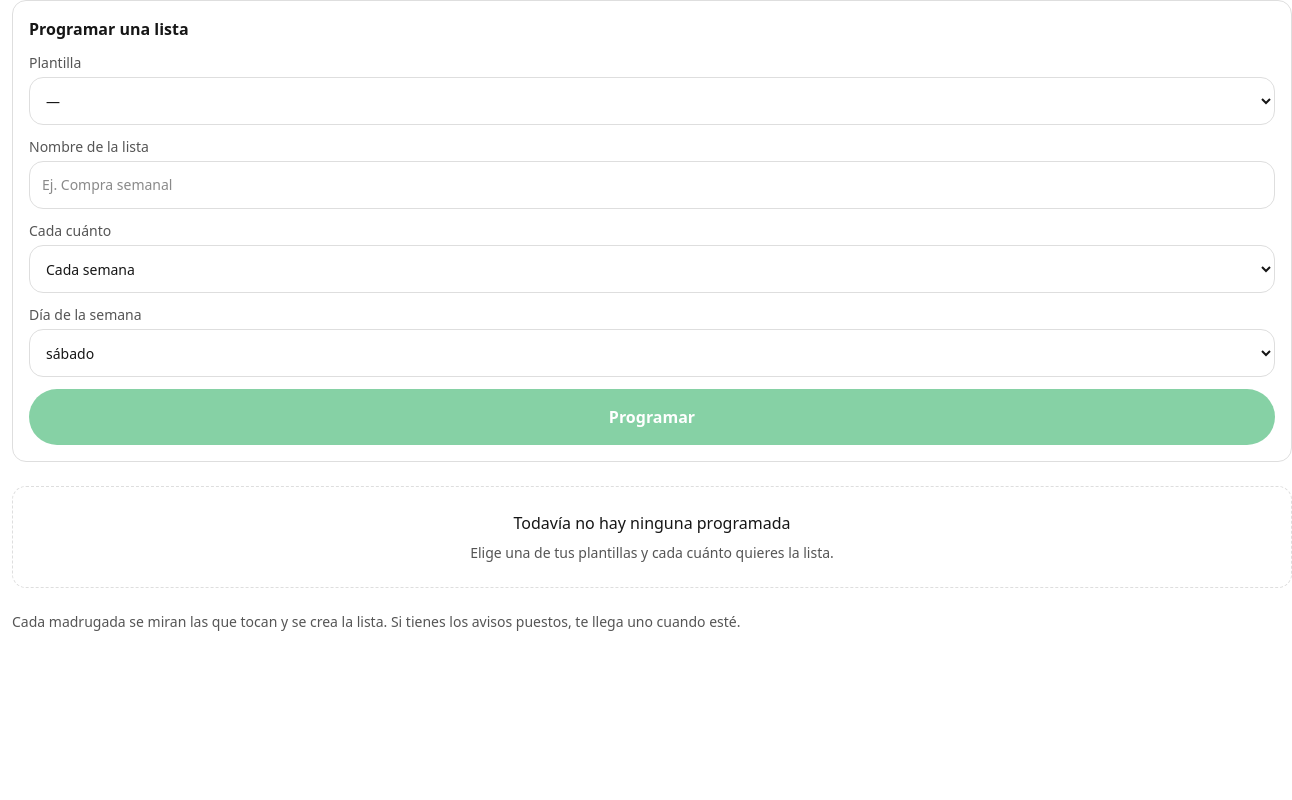
Test case: RecurringClient › en mensual se pide el día del mes, no el de la semana
Select "Cada mes" in the dropdown labelled "Cada cuánto" at (652, 269), box [29,245,1275,293]
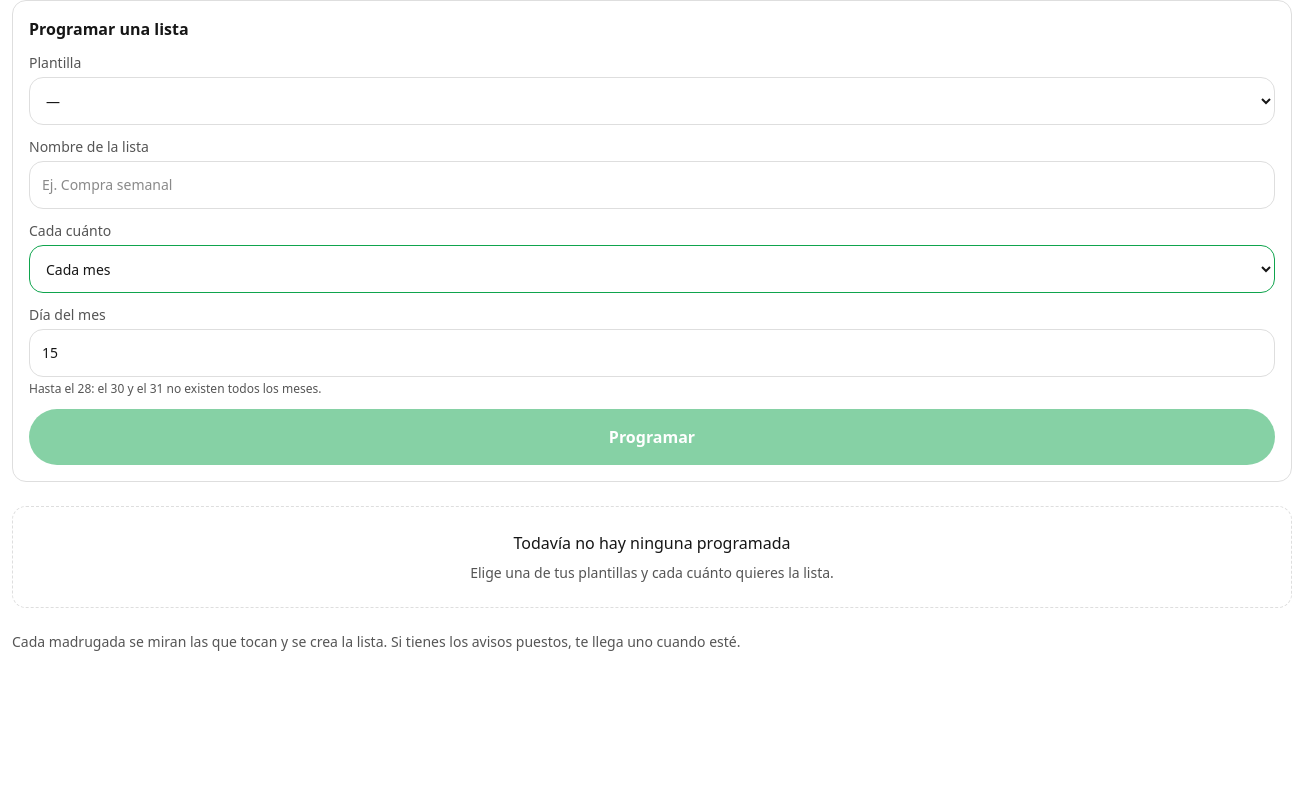
Expected: the number field labelled "Día del mes" is shown, [29,329,1275,377]
Expected: the label labelled "Día de la semana" is gone
